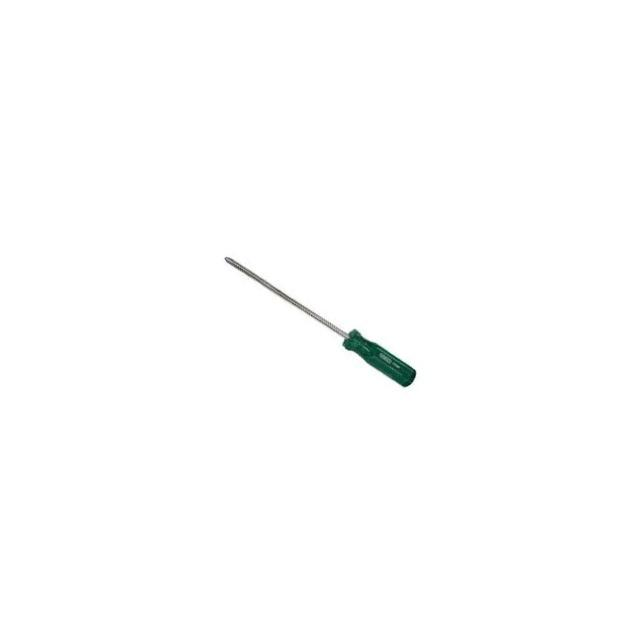screwdriver: (215, 200, 424, 441)
